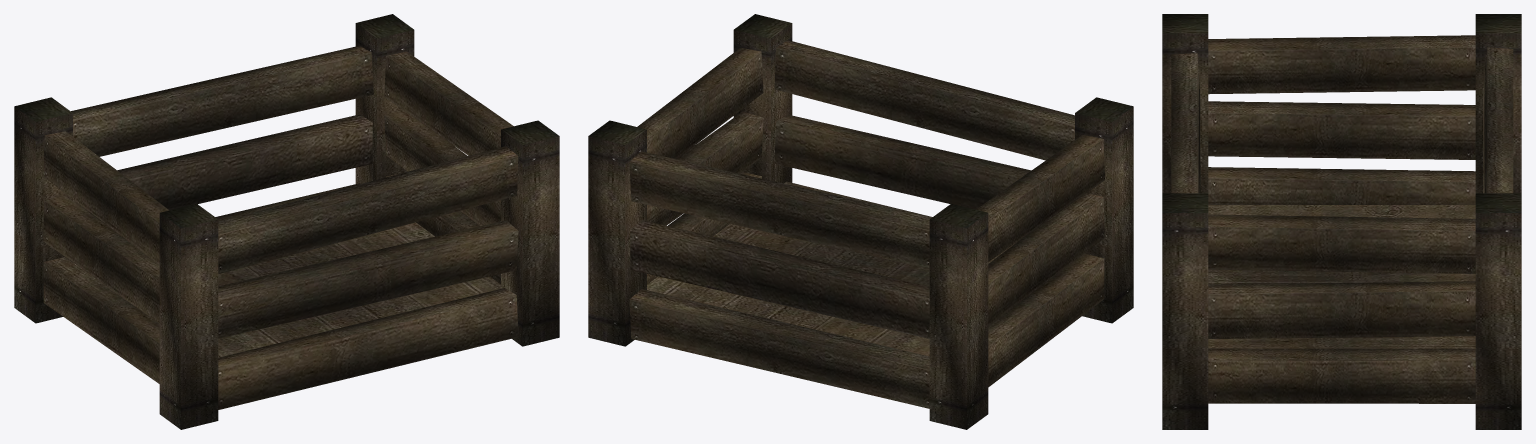
The model's file is GS_HOUSE_CRATE_EMPTY_01_GALI.glb.
3 views of the same model, side by side, from view 1: azimuth 30°, elevation 25°; view 2: azimuth 150°, elevation 25°; view 3: azimuth 270°, elevation 25° (orthographic). The views are drawn at different scales.
Visible parts, largest first — view 1: Mesh; view 2: Mesh; view 3: Mesh.
Boxes of the visible parts, x1,y1,x2,y2 form: Mesh: (14,14,559,429); Mesh: (588,14,1133,429); Mesh: (1162,14,1521,429).
Bounding box in the file's own units: 0.5504 × 0.2801 × 0.4201.
Materials: 1 (1 with a texture image).
